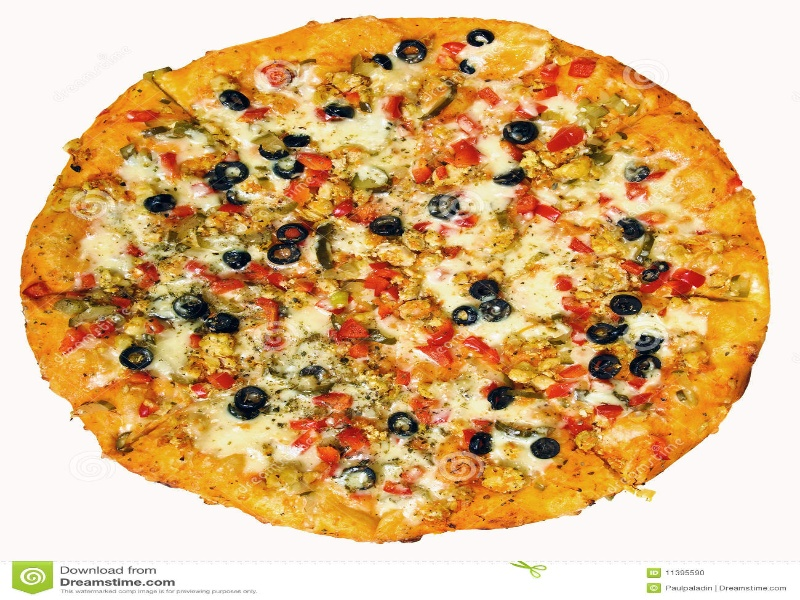olive noir: (231, 383, 275, 427), (366, 205, 409, 241), (503, 116, 546, 150), (118, 337, 157, 372), (207, 158, 252, 187), (588, 315, 623, 350), (384, 409, 420, 440), (393, 36, 428, 67), (173, 291, 207, 322), (267, 237, 304, 265), (480, 296, 516, 324), (481, 383, 515, 412), (530, 432, 565, 460), (138, 191, 178, 215), (452, 301, 480, 329)
